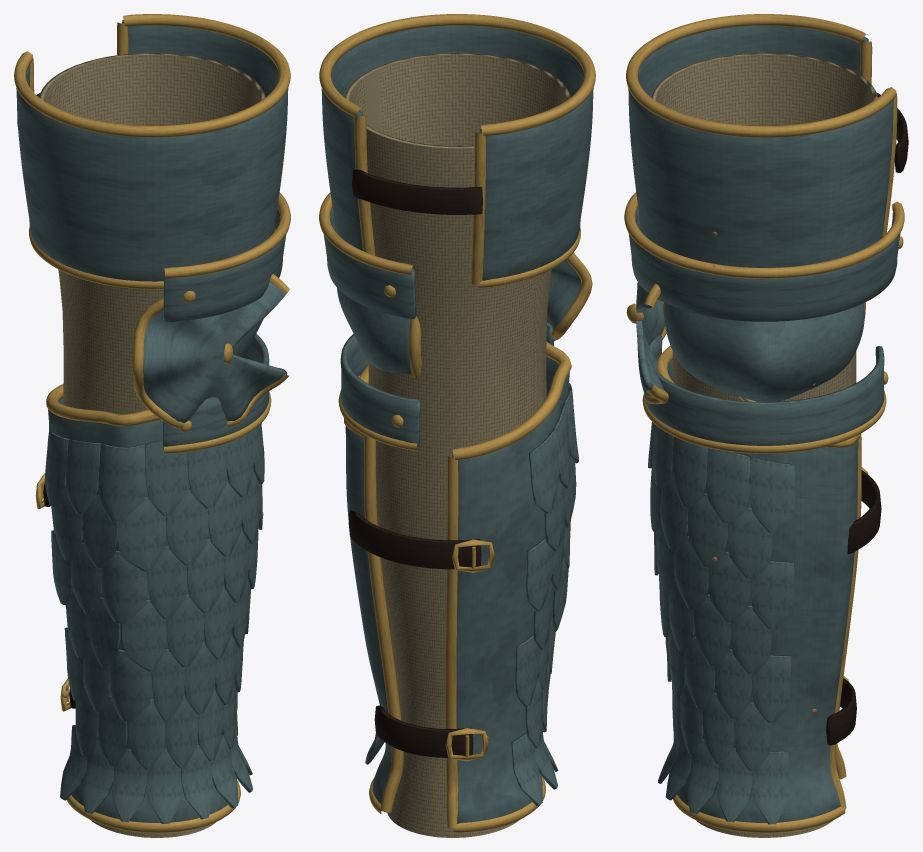
3 views of the same model, side by side, from view 1: azimuth 30°, elevation 25°; view 2: azimuth 150°, elevation 25°; view 3: azimuth 270°, elevation 25° (orthographic).
Parts seen in each view (by area): view 1: blued scale plate, quilted linen lining, gilded alloy; view 2: blued scale plate, quilted linen lining, gilded alloy, oiled strap leather; view 3: blued scale plate, gilded alloy, quilted linen lining, oiled strap leather.
Part boxes in pixels (x1=…): blued scale plate: x1=16, y1=20, x2=288, y2=823; quilted linen lining: x1=39, y1=53, x2=265, y2=837; gilded alloy: x1=14, y1=14, x2=290, y2=832; blued scale plate: x1=321, y1=25, x2=593, y2=823; quilted linen lining: x1=344, y1=52, x2=570, y2=837; gilded alloy: x1=319, y1=14, x2=595, y2=832; oiled strap leather: x1=348, y1=169, x2=482, y2=757; blued scale plate: x1=628, y1=25, x2=900, y2=824; gilded alloy: x1=624, y1=14, x2=904, y2=832; quilted linen lining: x1=651, y1=53, x2=877, y2=837; oiled strap leather: x1=826, y1=92, x2=908, y2=745.
Bounding box in the file's own units: 0.1509 × 0.4439 × 0.1548.
6 materials, 4 textured.
